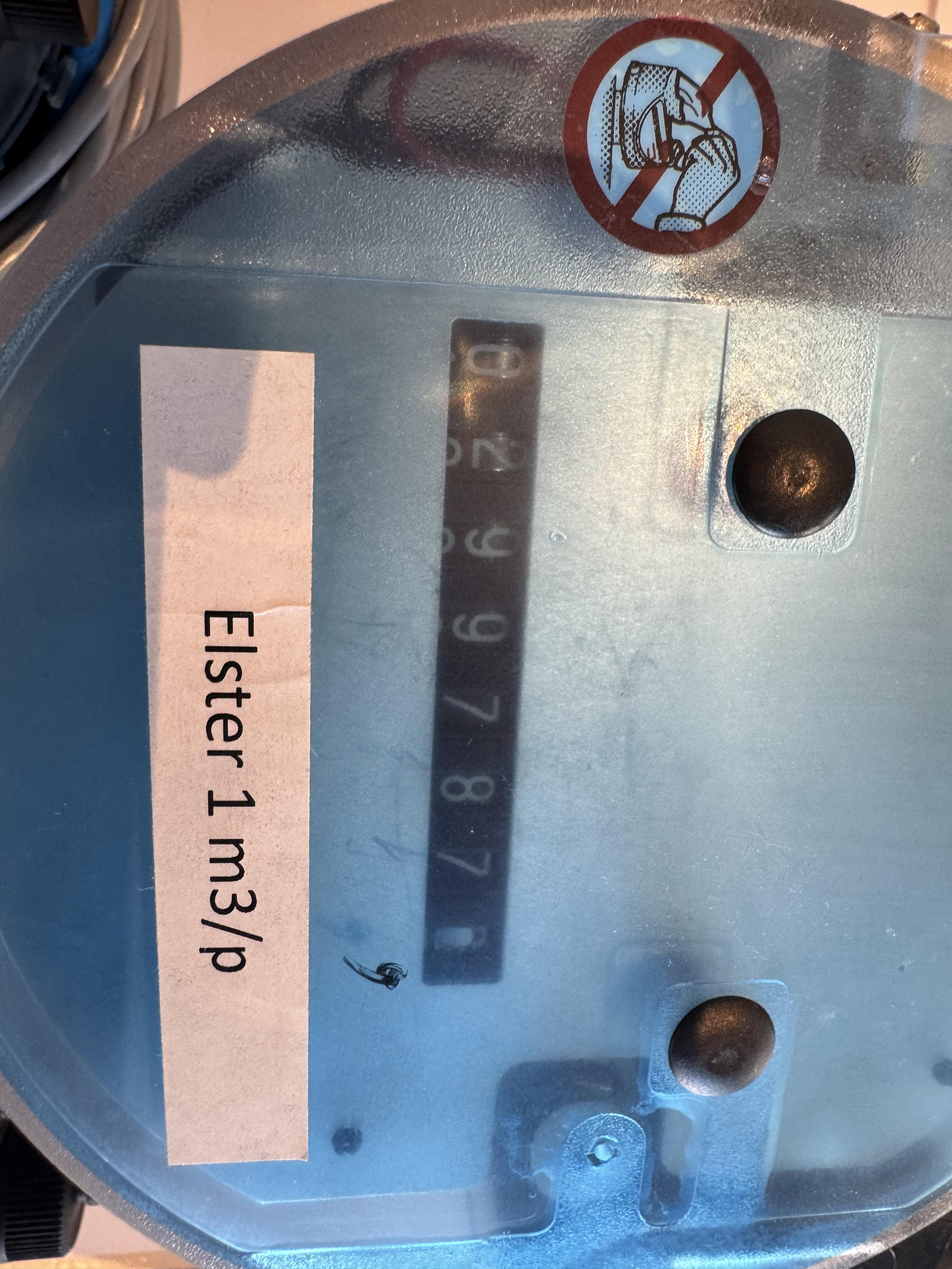analog_dial: (353, 310, 550, 999)
